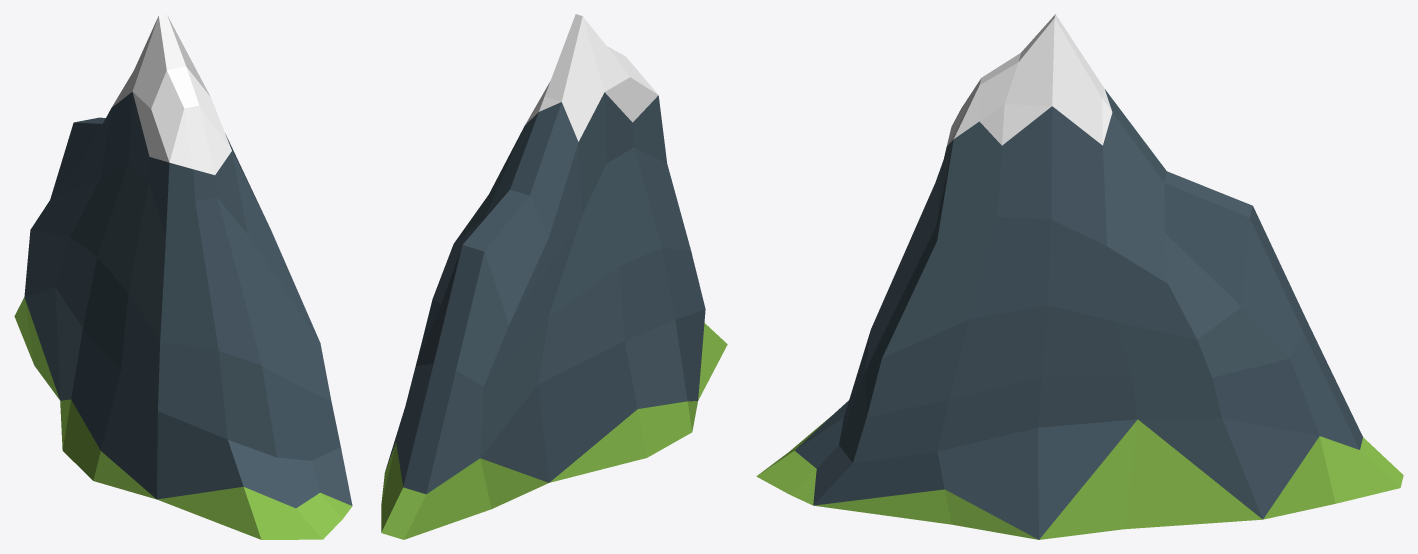
The model's file is mountain_12_lev1.glb.
3 renders of one model, left to right at view 1: azimuth 30°, elevation 25°; view 2: azimuth 150°, elevation 25°; view 3: azimuth 270°, elevation 25°, orthographic. The views are drawn at different scales.
Visible parts, largest first — view 1: mountain_12_lev1; view 2: mountain_12_lev1; view 3: mountain_12_lev1.
Boxes of the visible parts, x1=… form: mountain_12_lev1: x1=14, y1=14, x2=352, y2=539; mountain_12_lev1: x1=381, y1=14, x2=727, y2=539; mountain_12_lev1: x1=756, y1=14, x2=1403, y2=539.
Size of the model in its own units: 14.53 by 25.17 by 32.77.
